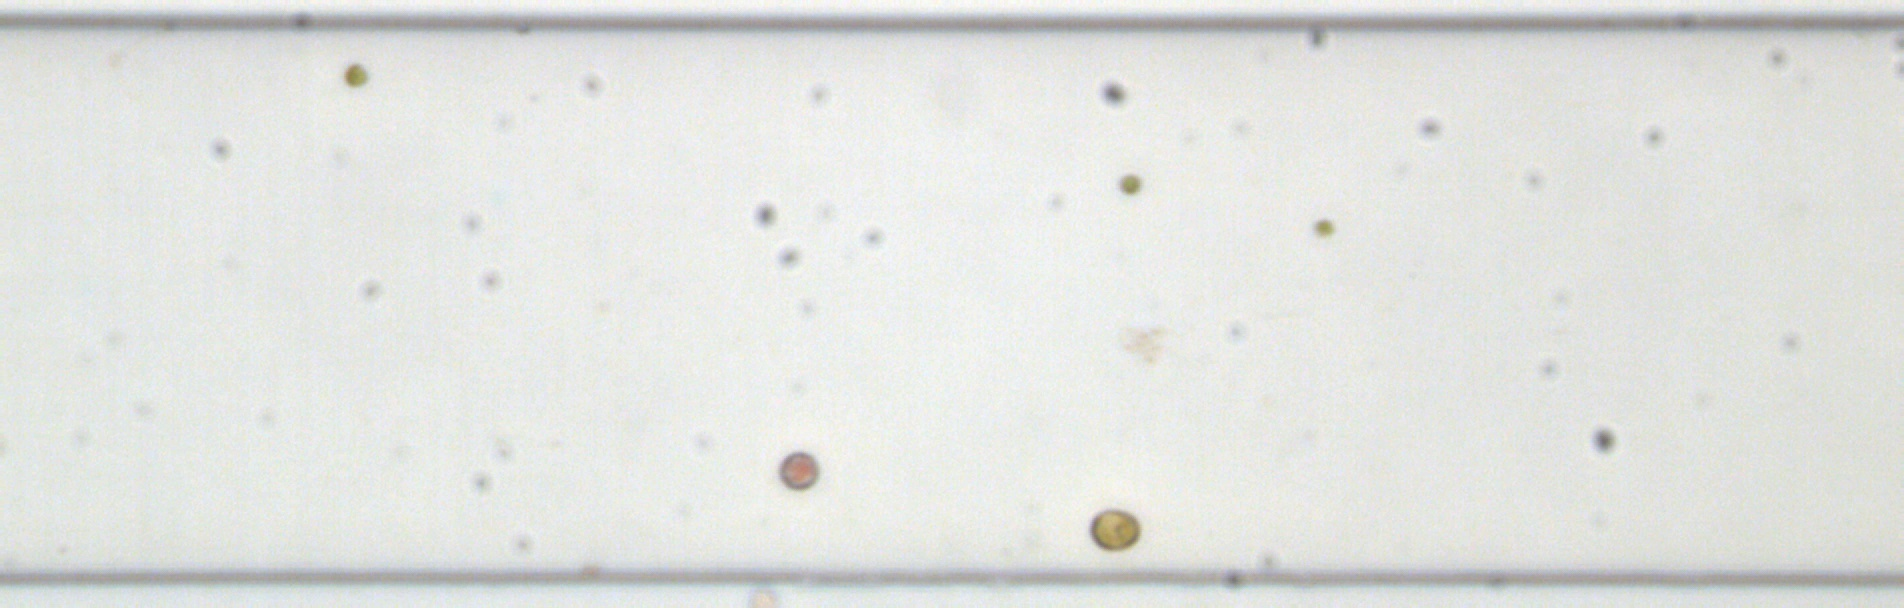Chlorella: (342, 59, 370, 85), (1117, 169, 1141, 195), (1311, 216, 1332, 238)
Effrenium: (1086, 505, 1141, 553)
Porphyridium: (775, 447, 821, 491)
